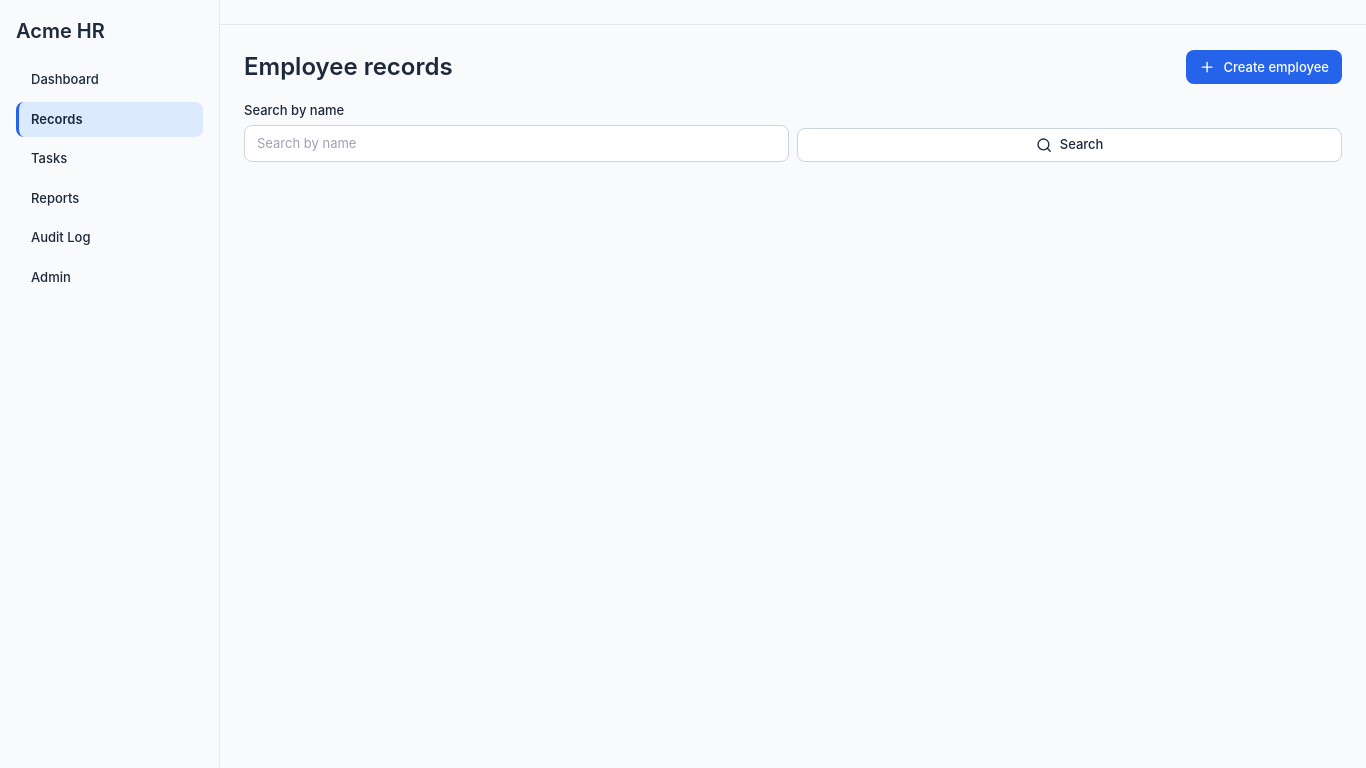
Test: EmployeesPage › shows an alert and retries when the search fails
In the search field labelled "Search by name": (516, 143) x1=244 y1=124 x2=789 y2=162, type "Priya"
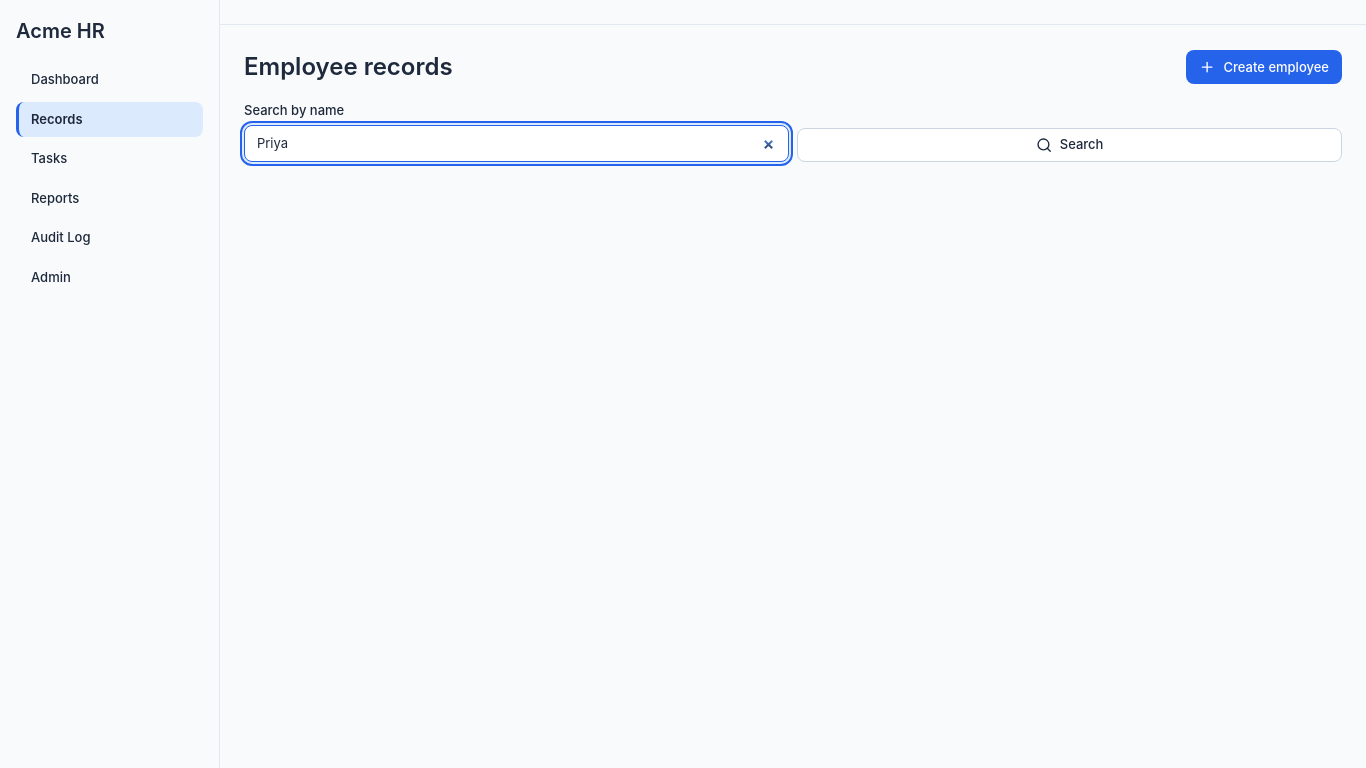
Click the button "Search": (1070, 145) x1=797 y1=128 x2=1342 y2=162
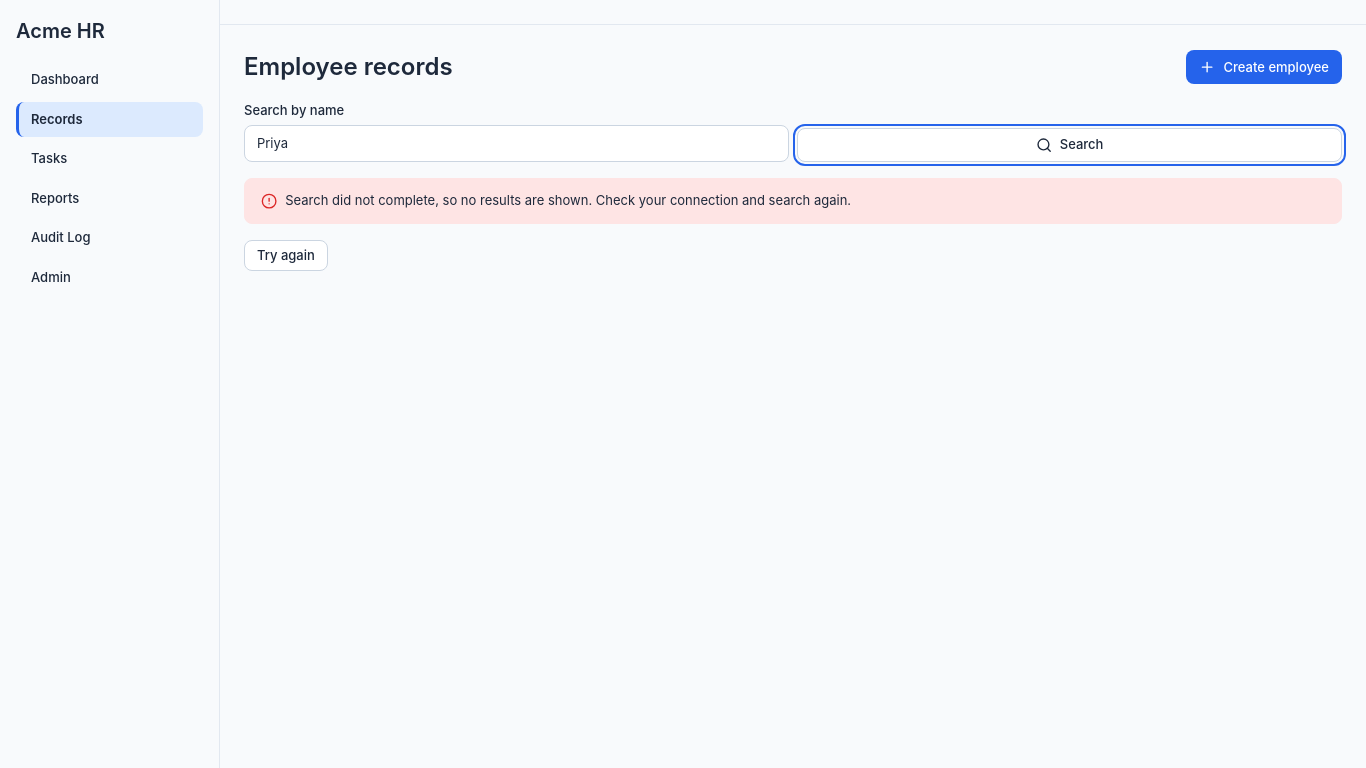
expect the message shows "Search did not complete": met, box x1=285 y1=192 x2=851 y2=208
Click the button "Try again": (286, 255) x1=244 y1=240 x2=328 y2=270
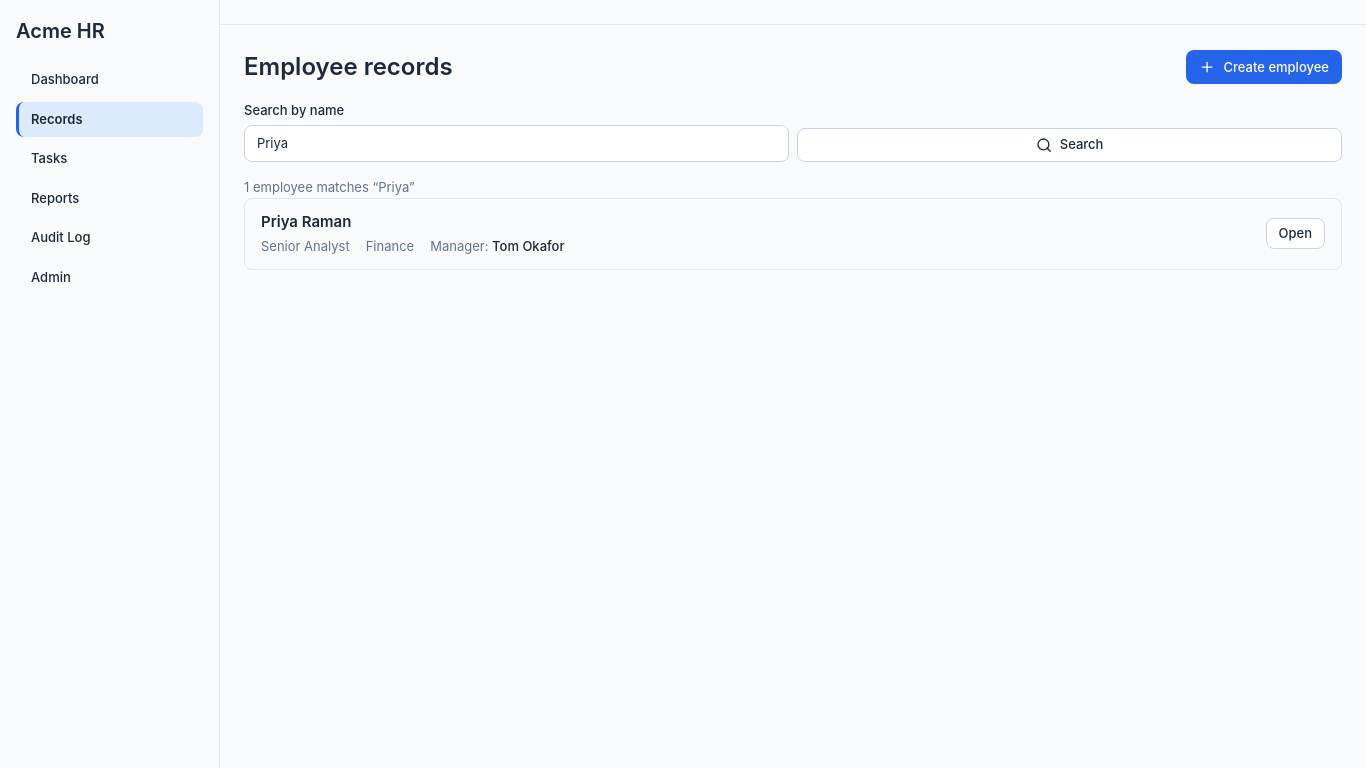
expect the text "Priya Raman" is shown: met, box x1=261 y1=212 x2=351 y2=230
